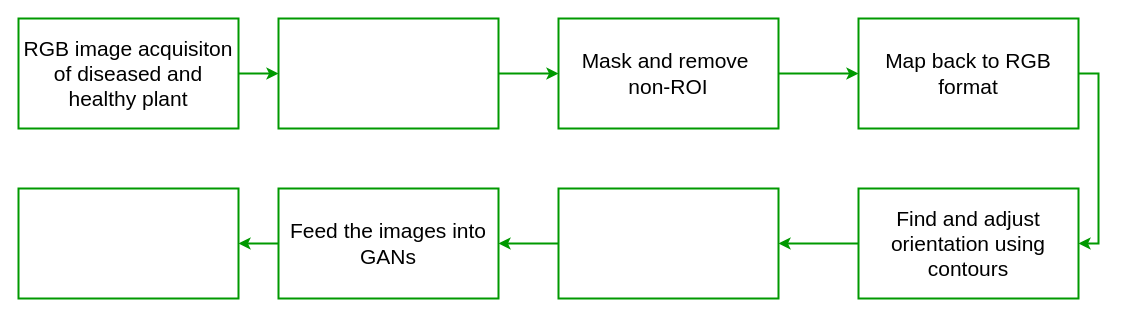
The diagram is 1124 pixels wide and 316 high, and some of its shapes have lost their labels. The centre of each missing label's shape, as x and y in pixels:
Color transformation: (x=388, y=73)
Concatenate diseased area with healthy leaf area: (x=668, y=243)
Verify created dataset: (x=128, y=243)
